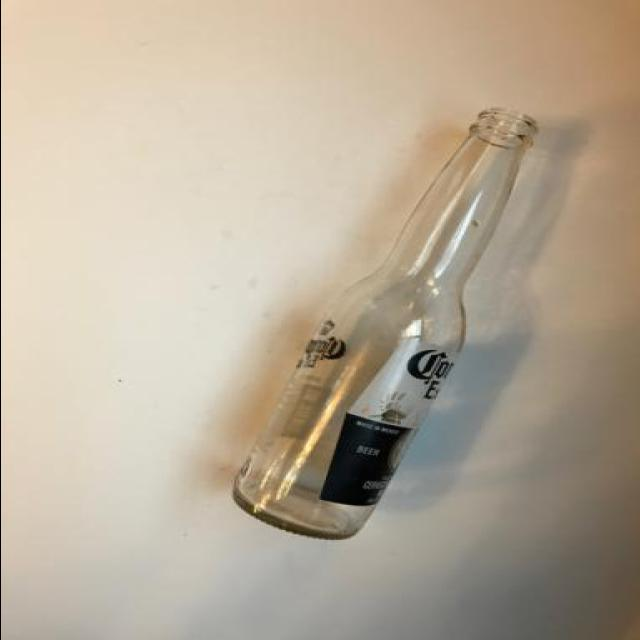Glass Bottle: (228, 101, 540, 545)
